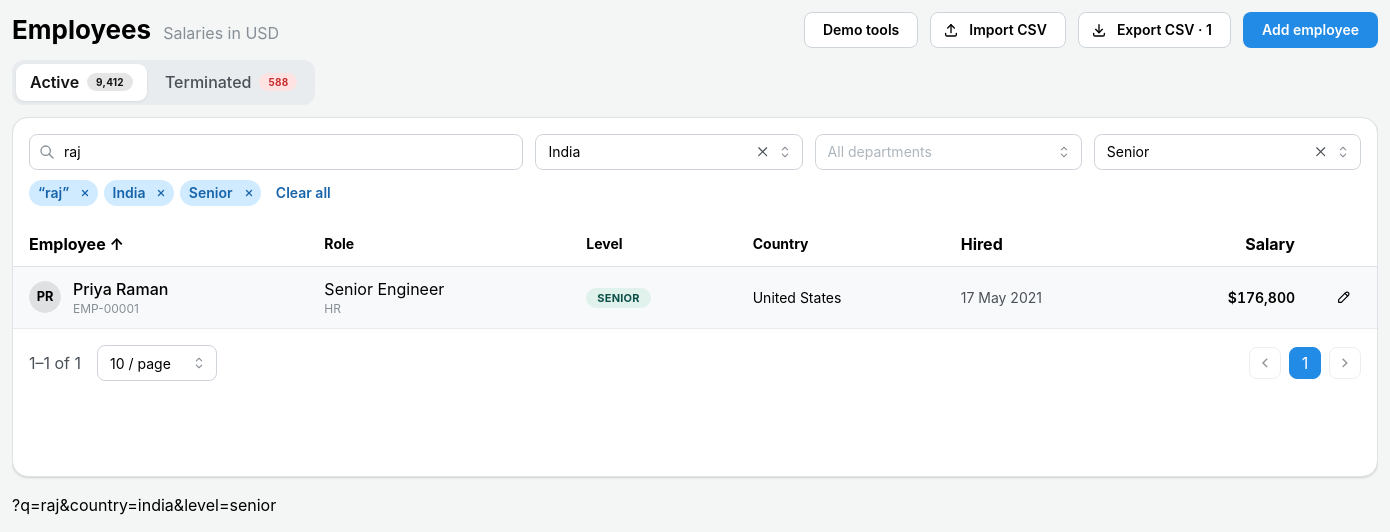
Scenario: EmployeesPage › applies filters from the URL and shows them as removable chips
The width and height of the screenshot is (1390, 532).
Check: the text "Priya Raman" is shown, box [73,277,168,301]
Click the button with aria-label "Remove filter India". click: (139, 193)
box: [104,180,174,206]
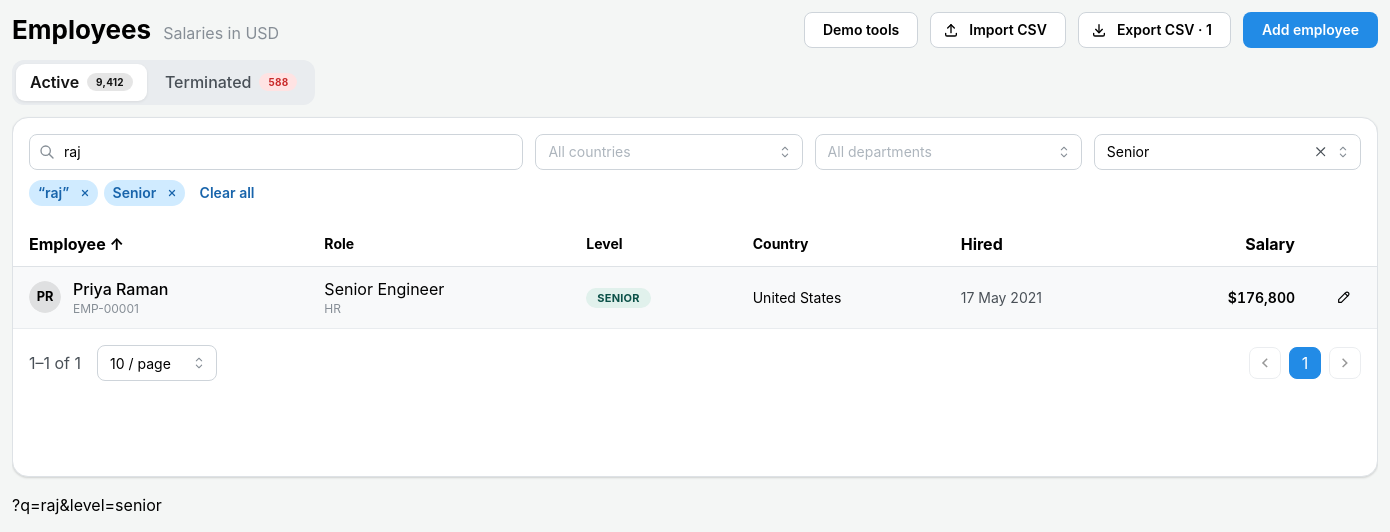
Check: the text with test id "search" reads "?q=raj&level=senior", box [12,495,162,515]
